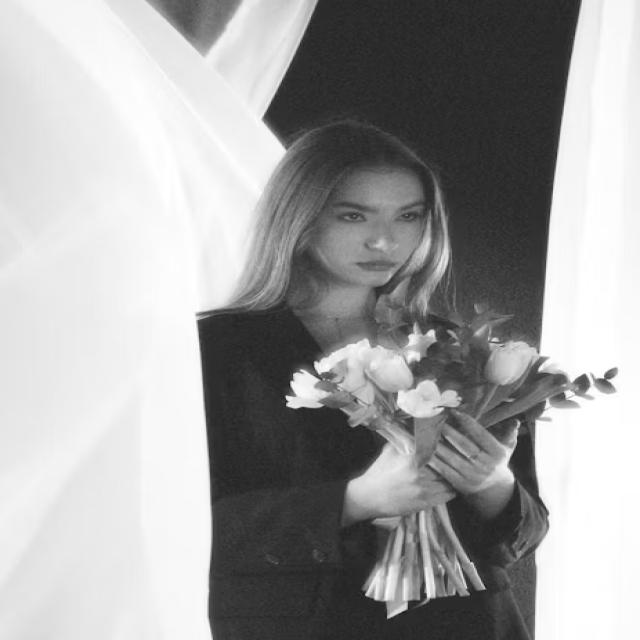Edited images: (152, 110, 576, 640)
